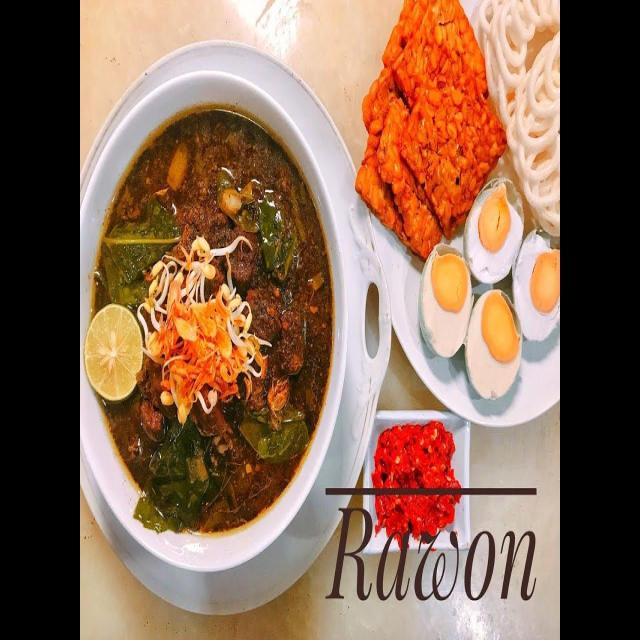Rawon: (74, 116, 324, 494)
